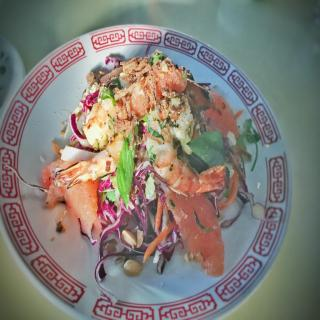Salad: (4, 40, 279, 308)
